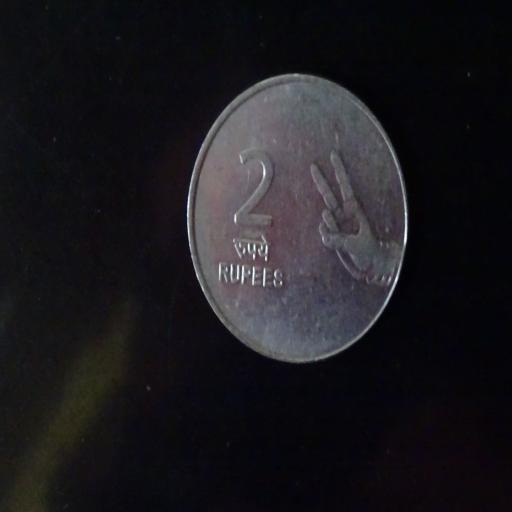rupee2: (186, 72, 410, 365)
